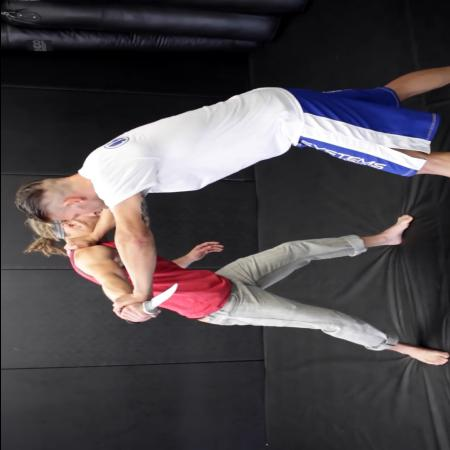long weapon: (122, 280, 182, 327)
